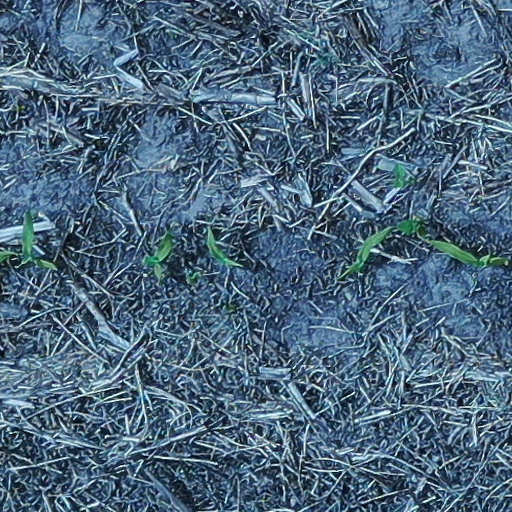planta: (347, 226, 393, 274), (20, 211, 57, 269), (431, 241, 510, 265), (145, 230, 172, 277), (208, 229, 240, 265)
